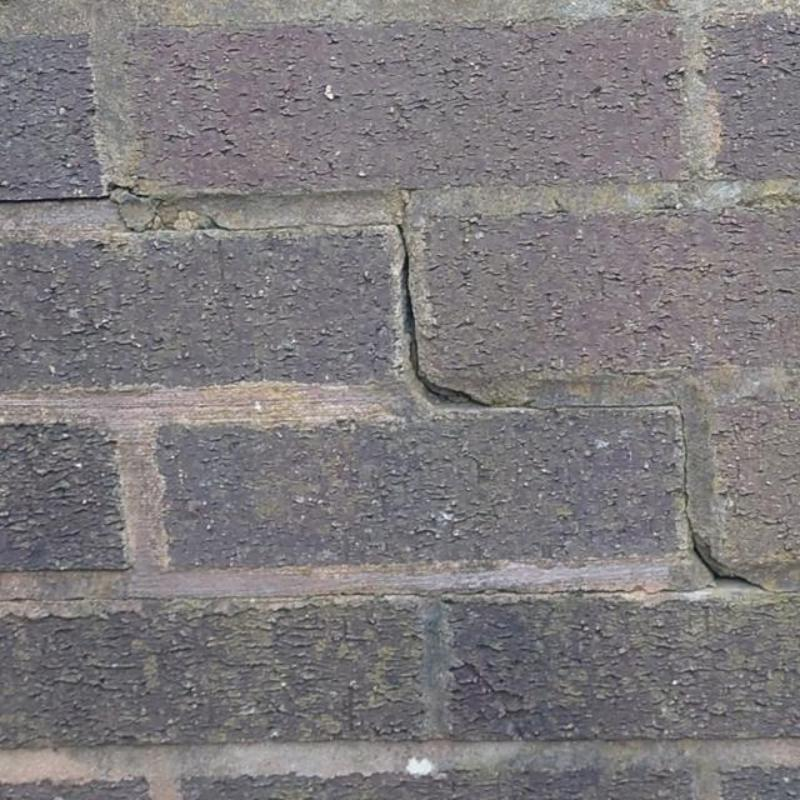pothole: (495, 398, 690, 510), (398, 224, 494, 408), (0, 180, 161, 234), (687, 512, 783, 594), (196, 211, 400, 234)
